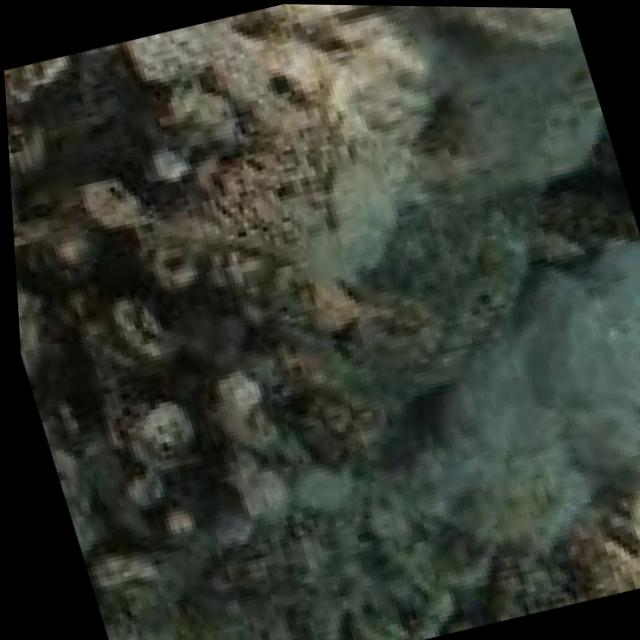Dead Coral: (0, 10, 399, 603)
